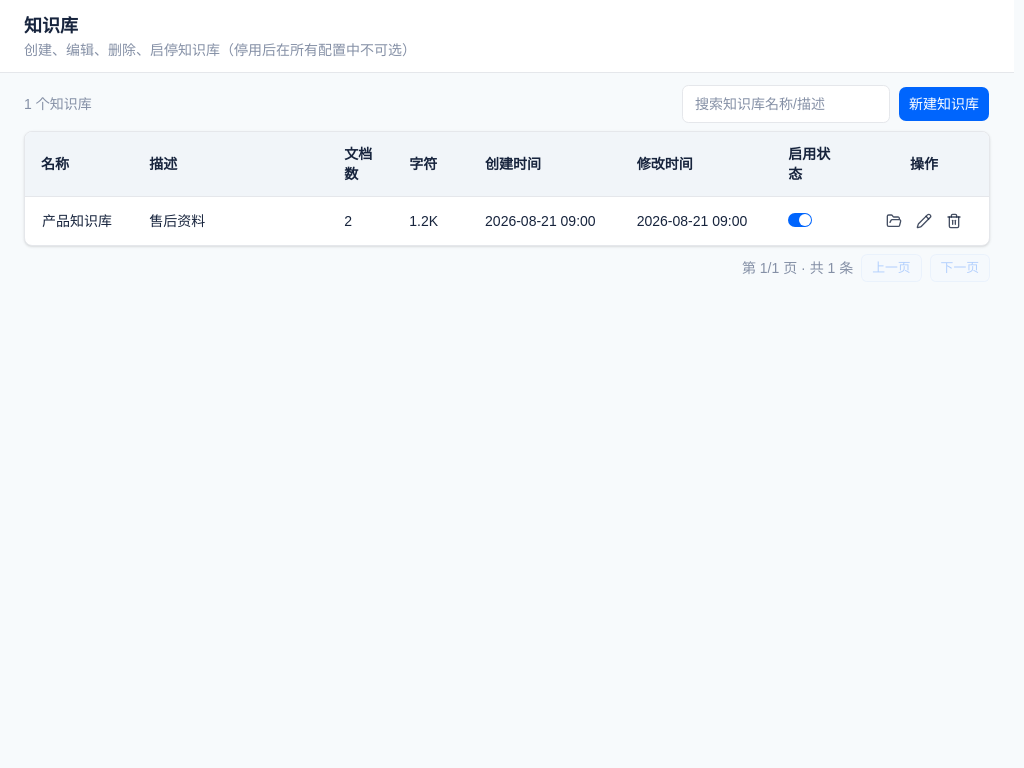
Test: KbPage › opens the delete dialog before linked assistants finish loading
Click the button named "删除" at coordinates (954, 221), box [940, 207, 968, 235]
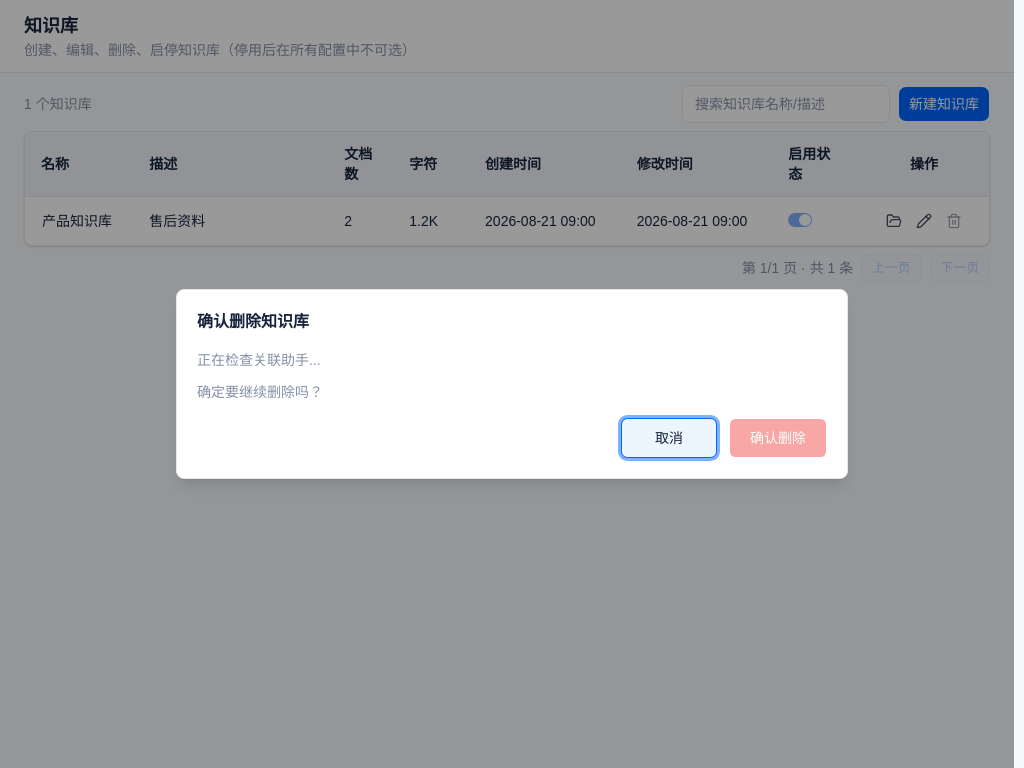
Result: the heading "确认删除知识库" is shown at [197, 310, 309, 334]
Result: the text "正在检查关联助手..." is shown at [197, 352, 321, 368]
